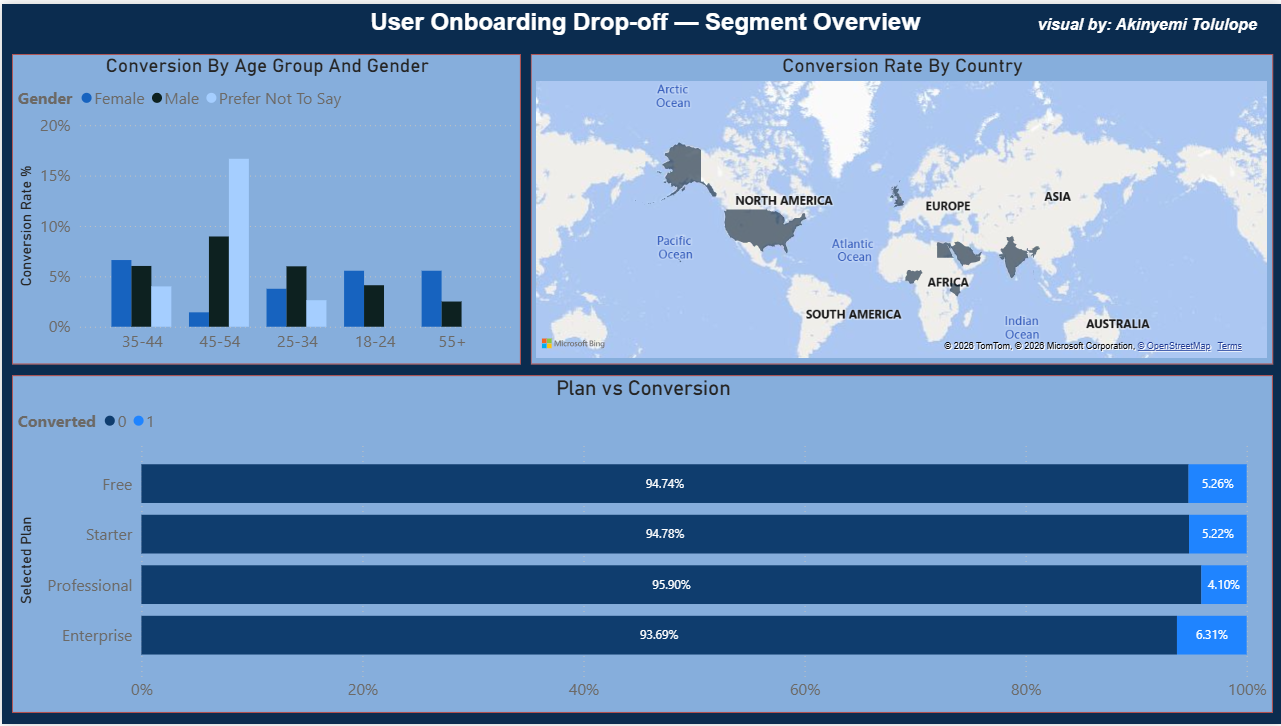

What the dashboard file says about the page in this screenshot:
{"tool":"powerbi","page":{"name":"SEGMENTS","canvas":[1280,720],"ordinal":2},"visuals":[{"type":"clusteredColumnChart","title":"Conversion By Age Group And Gender","fields":{"Category":["Raw Data.Age Group"],"Y":["Raw Data.Conversion Rate %"],"Series":["Raw Data.Gender"]},"box":[9.6,49.4,509.1,310.1],"z":0},{"type":"filledMap","title":"Conversion Rate By Country","fields":{"Category":["Raw Data.Country"]},"box":[528.3,49.4,742.4,310.1],"z":1000},{"type":"hundredPercentStackedBarChart","title":"Plan vs Conversion","fields":{"Category":["Raw Data.Selected Plan"],"Y":["Raw Data.Total Users"],"Series":["Raw Data.Converted"]},"box":[9.6,371.9,1261.1,337.6],"z":2000},{"type":"textbox","box":[10,0,1261.4,44.3],"z":2001}]}

Visuals, with their boxes in screenshot pixels (x1, y1, x2, y2), scaled from the page's 1280x720 canvas onto the 1281x726 screenshot:
"Conversion By Age Group And Gender" clusteredColumnChart: select_region(10, 50, 519, 362)
"Conversion Rate By Country" filledMap: select_region(529, 50, 1272, 362)
"Plan vs Conversion" hundredPercentStackedBarChart: select_region(10, 375, 1272, 715)
textbox: select_region(10, 0, 1272, 45)
